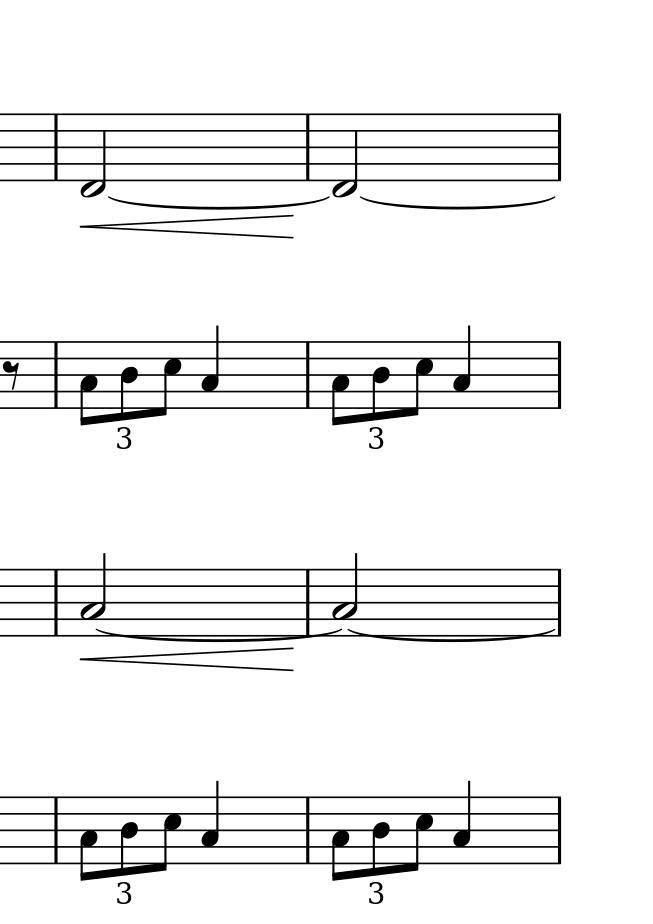2_-1: (79, 111, 108, 199), (331, 111, 360, 199)
2_3: (79, 552, 107, 638), (332, 551, 359, 638)
3: (367, 426, 385, 450), (115, 882, 132, 906), (368, 881, 384, 906), (115, 427, 132, 450)
4_3: (450, 778, 474, 866), (450, 324, 473, 411), (198, 779, 221, 865), (198, 325, 221, 410)
8_3: (77, 796, 99, 884), (78, 340, 99, 428), (329, 341, 350, 428), (330, 796, 350, 884)
8_4: (117, 795, 139, 878), (369, 795, 391, 878), (369, 340, 390, 423), (118, 340, 138, 423)
8_5: (156, 340, 182, 418), (156, 795, 181, 874), (408, 795, 433, 874), (408, 340, 433, 418)
Crescendo_hairpin: (80, 213, 294, 242), (80, 648, 294, 673)
Rests8: (1, 359, 23, 393)
Single_barline: (551, 114, 567, 180), (47, 342, 63, 408), (48, 570, 64, 635), (552, 341, 567, 409), (552, 797, 567, 865), (48, 114, 63, 181), (299, 114, 314, 181), (552, 570, 567, 637), (300, 571, 316, 633), (48, 799, 63, 861)
Slur: (96, 626, 343, 640), (110, 196, 332, 210), (347, 627, 554, 642), (362, 197, 557, 210)
